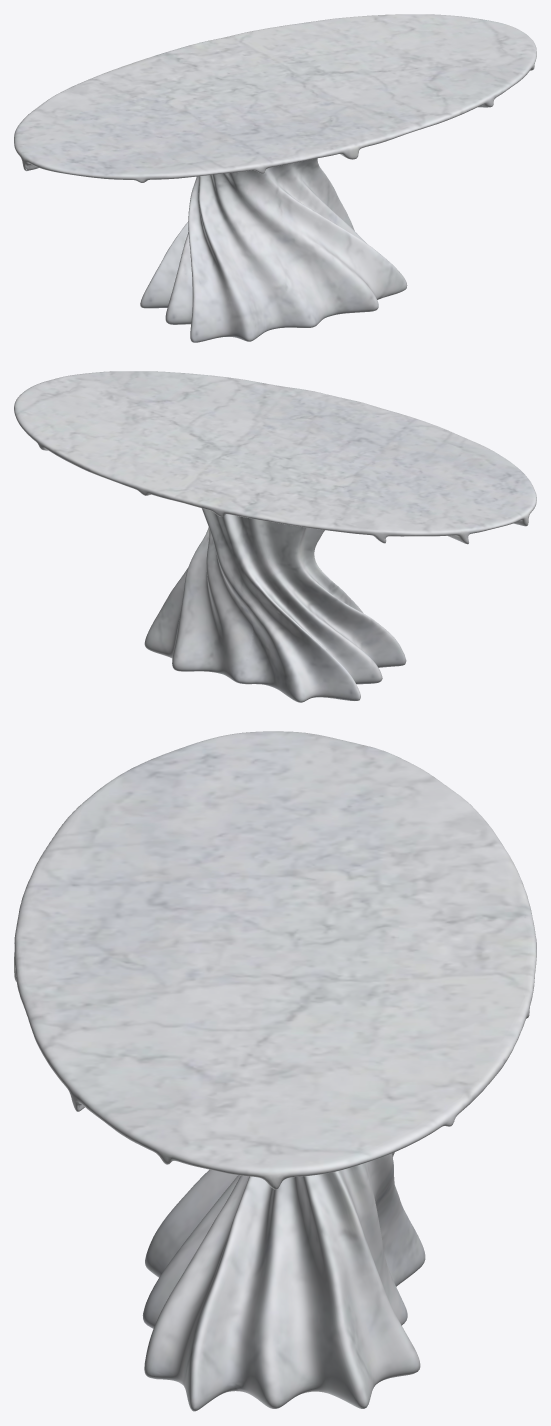
The picture shows the model from 3 angles, top to bottom: view 1: azimuth 30°, elevation 25°; view 2: azimuth 150°, elevation 25°; view 3: azimuth 270°, elevation 25°; orthographic projection. The views are drawn at different scales.
Parts seen in each view (by area): view 1: stol-01; view 2: stol-01; view 3: stol-01.
Boxes of the visible parts, x1,y1,x2,y2 form: stol-01: [14, 14, 536, 342]; stol-01: [14, 371, 536, 702]; stol-01: [14, 731, 536, 1411].
Size of the model in its own units: 1.9 by 0.7498 by 0.95.
Materials: 1 (1 with a texture image).
